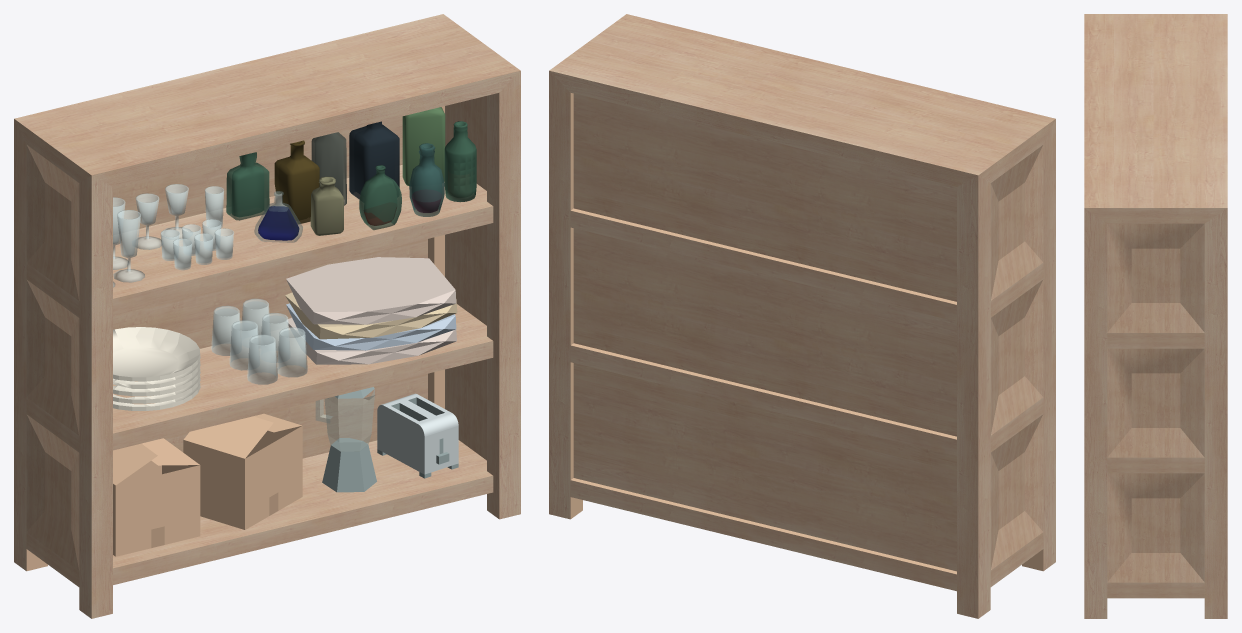
Rendered from libreria-texture.glb.
The picture shows the model from 3 angles, left to right: view 1: azimuth 30°, elevation 25°; view 2: azimuth 150°, elevation 25°; view 3: azimuth 270°, elevation 25°; orthographic projection. The views are drawn at different scales.
Visible parts, largest first — view 1: libreria, tovaglie, cardboardBoxClosed(Clone).001, cardboardBoxClosed(Clone), piatti, toaster(Clone), blender, bottle3, bottle4, bottle7, bottle2, bottle10 (+16 smaller); view 2: libreria; view 3: libreria.
Boxes of the visible parts, x1=… form: libreria: x1=14, y1=14, x2=520, y2=618; tovaglie: x1=285, y1=257, x2=457, y2=364; cardboardBoxClosed(Clone).001: x1=183, y1=413, x2=302, y2=529; cardboardBoxClosed(Clone): x1=113, y1=438, x2=200, y2=556; piatti: x1=113, y1=327, x2=200, y2=410; toaster(Clone): x1=377, y1=393, x2=458, y2=478; blender: x1=315, y1=387, x2=376, y2=492; bottle3: x1=349, y1=121, x2=399, y2=199; bottle4: x1=274, y1=140, x2=319, y2=224; bottle7: x1=226, y1=152, x2=269, y2=220; bottle2: x1=402, y1=107, x2=445, y2=185; bottle10: x1=444, y1=121, x2=476, y2=201; libreria: x1=549, y1=14, x2=1055, y2=618; libreria: x1=1084, y1=14, x2=1227, y2=618.
Bounding box in the file's own units: 0.8 × 0.79 × 0.25.
Materials: 46 (1 with a texture image).
